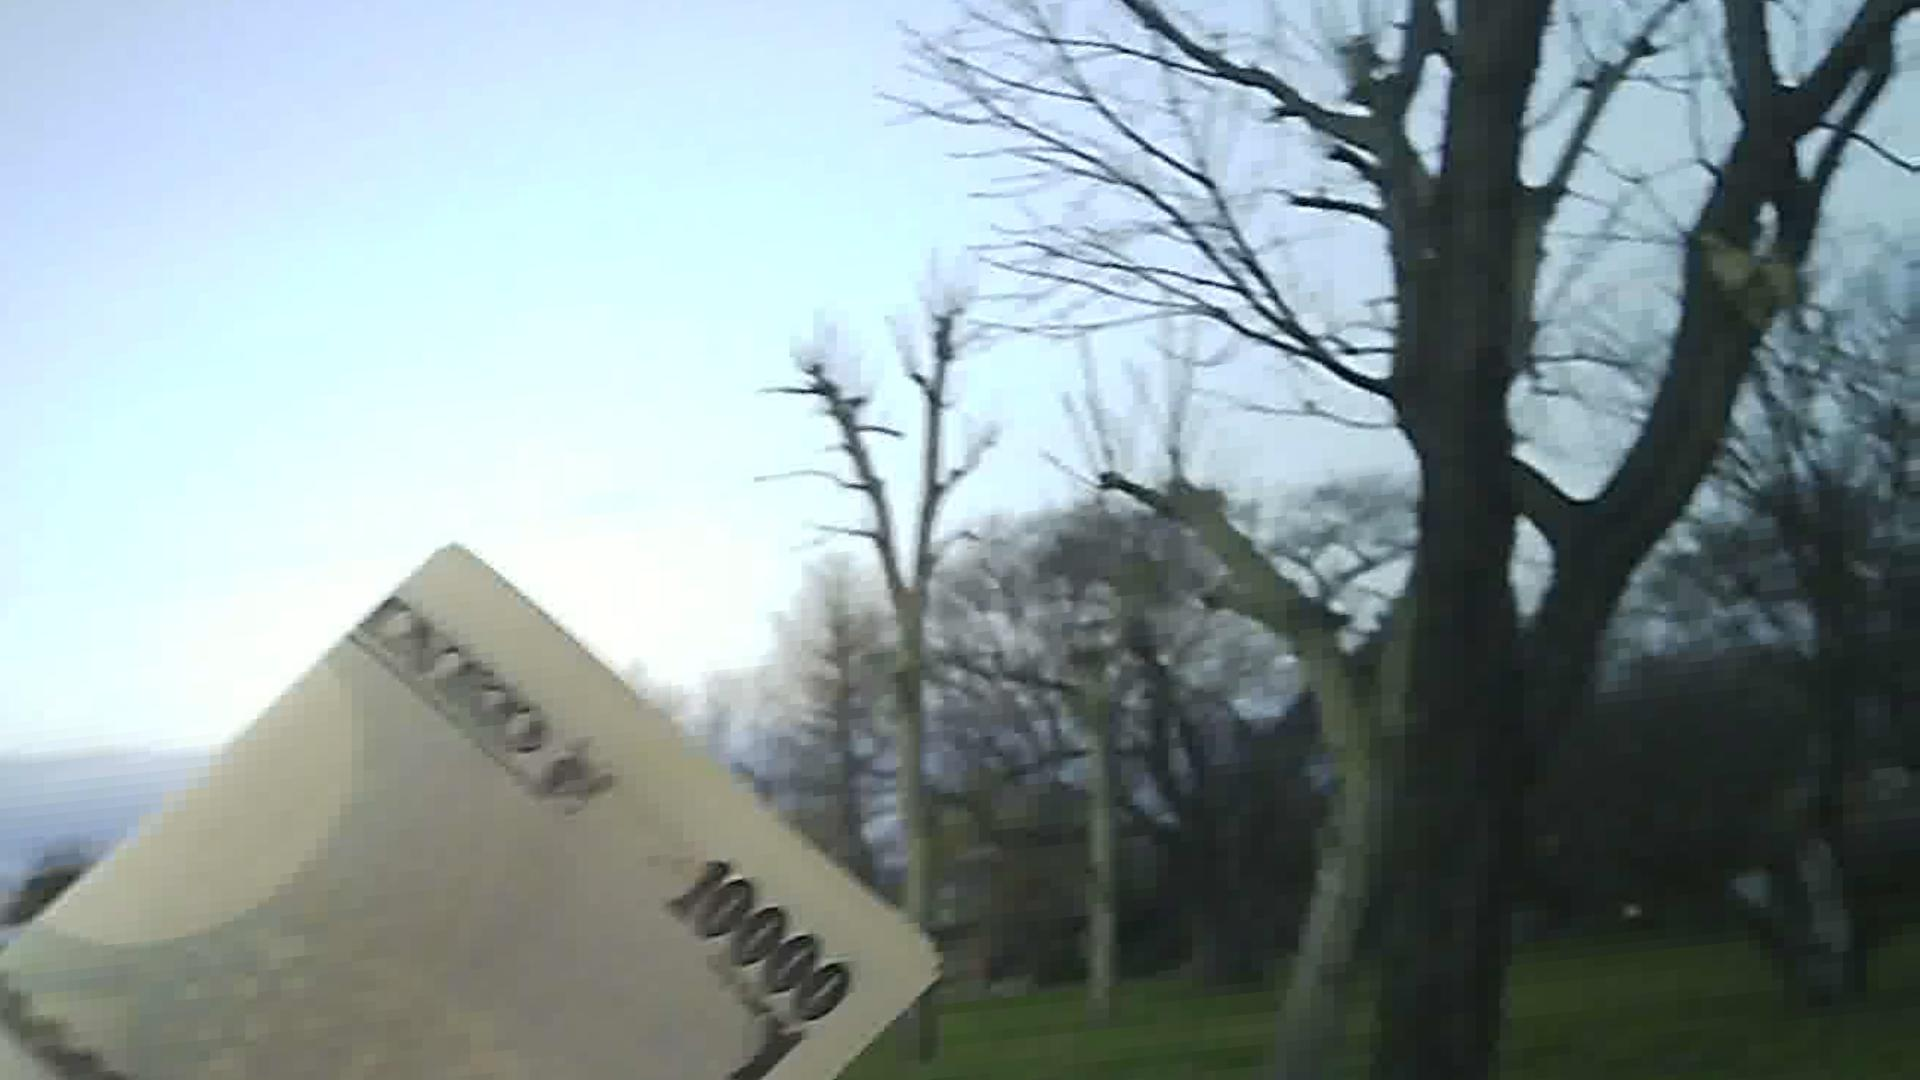10,000 Yen: (69, 550, 944, 1067)
